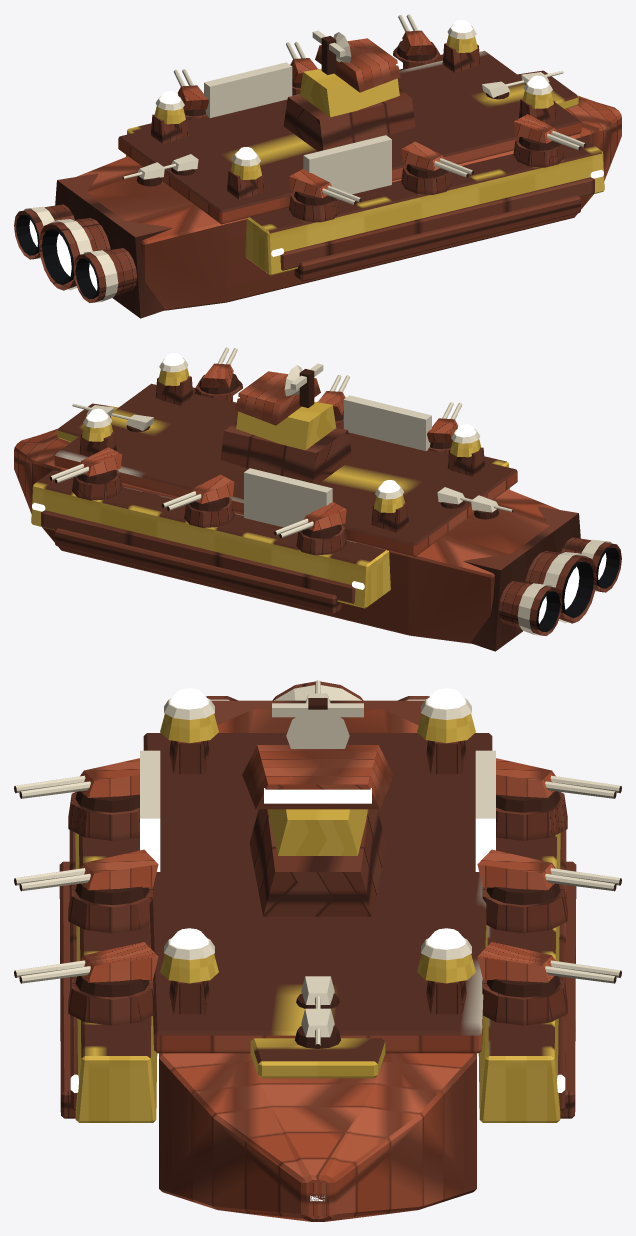
The model's file is cruiser.glb.
The picture shows the model from 3 angles, top to bottom: view 1: azimuth 30°, elevation 25°; view 2: azimuth 150°, elevation 25°; view 3: azimuth 270°, elevation 25°; orthographic projection. The views are drawn at different scales.
Visible parts, largest first — view 1: hull_body, weapon_turrets, engine_block, sensor_tower, shield_pylons; view 2: hull_body, weapon_turrets, engine_block, sensor_tower, shield_pylons; view 3: hull_body, weapon_turrets, sensor_tower, shield_pylons, engine_block.
Part boxes in pixels (box(x1,y1,x2,y2)): hull_body: box(76, 50, 621, 310); weapon_turrets: box(122, 14, 586, 222); engine_block: box(14, 173, 172, 318); sensor_tower: box(283, 30, 415, 151); shield_pylons: box(151, 20, 556, 199); hull_body: box(14, 383, 559, 643); weapon_turrets: box(49, 347, 513, 555); engine_block: box(463, 506, 621, 651); sensor_tower: box(220, 363, 352, 484); shield_pylons: box(79, 353, 484, 532); hull_body: box(59, 708, 576, 1221); weapon_turrets: box(14, 680, 621, 1048); sensor_tower: box(242, 698, 393, 916); shield_pylons: box(160, 688, 475, 1014); engine_block: box(206, 681, 429, 725).
Bounding box in the file's own units: 42 × 14.28 × 23.37.
1 material, 1 textured.
